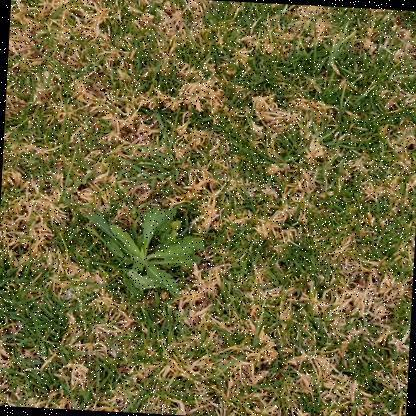Weeds: (77, 197, 208, 315)
